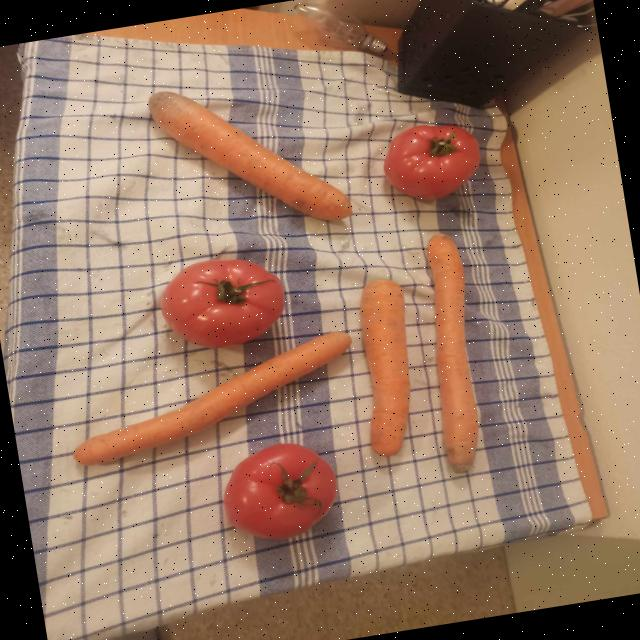carrot: (73, 332, 351, 466), (147, 92, 352, 220), (425, 234, 479, 473), (359, 280, 409, 457)
tomato: (160, 259, 284, 349), (223, 443, 337, 540), (383, 125, 480, 200)
